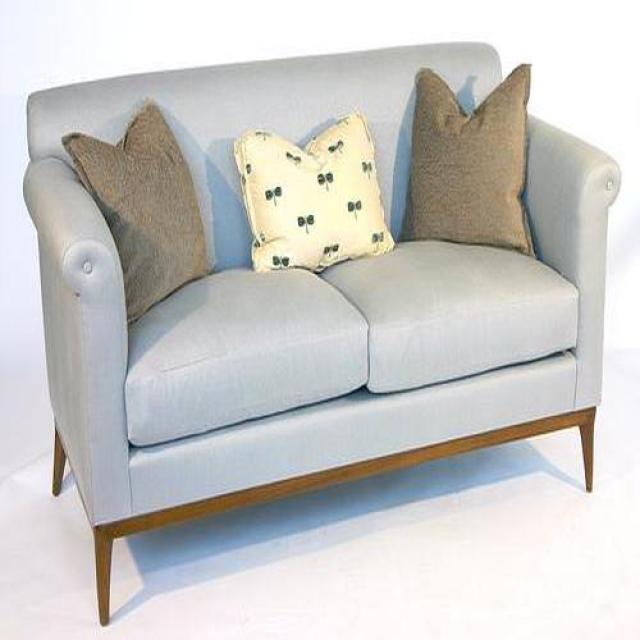sofa: (22, 44, 623, 625)
